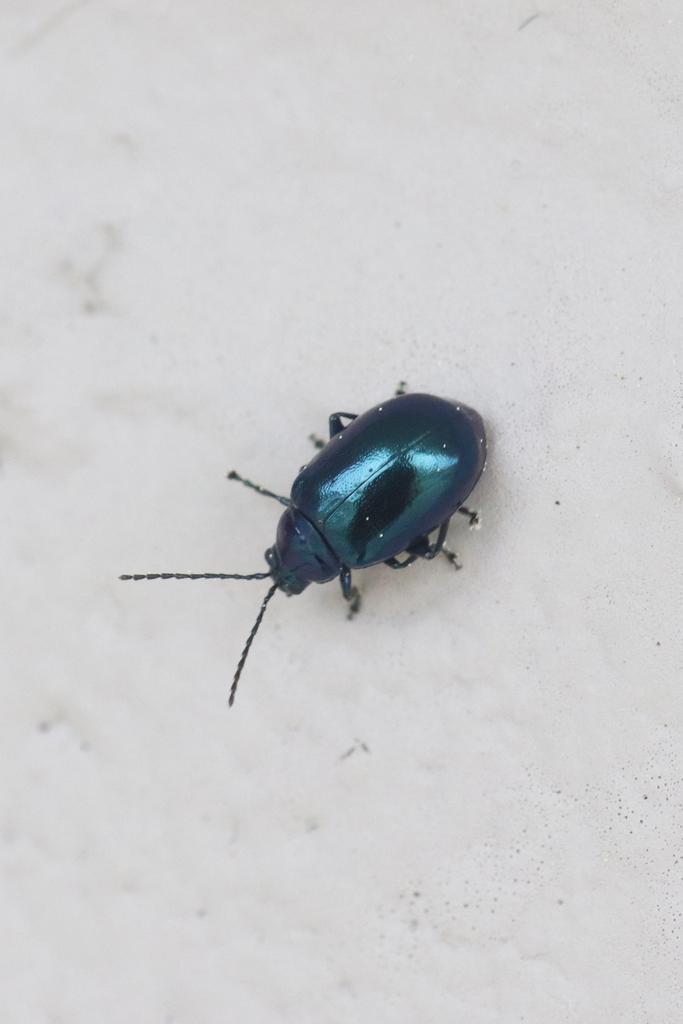flea_beetle: (72, 286, 555, 751)
